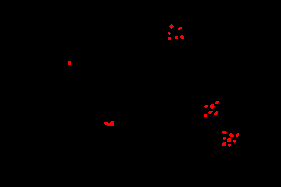Target: (104, 121, 114, 126), (169, 24, 174, 29), (210, 104, 215, 109), (229, 133, 234, 137), (180, 35, 184, 39), (214, 111, 218, 115), (227, 138, 231, 142), (222, 142, 226, 146), (208, 111, 213, 114), (222, 131, 227, 134), (178, 27, 182, 30), (68, 61, 71, 65), (215, 101, 219, 104), (204, 105, 208, 108), (236, 133, 239, 137), (168, 32, 171, 35), (175, 36, 178, 39), (168, 37, 171, 40), (204, 114, 207, 117), (223, 137, 226, 140), (233, 140, 236, 143), (228, 144, 231, 147)
